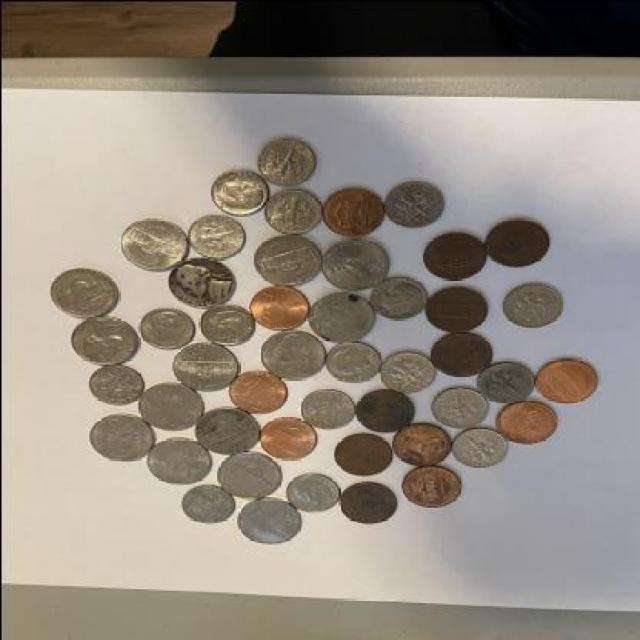Dime: (256, 135, 318, 188), (502, 282, 564, 331), (380, 180, 445, 226), (263, 186, 325, 234), (137, 304, 196, 350), (430, 386, 488, 432), (322, 340, 380, 386), (208, 170, 266, 216), (297, 384, 354, 430), (188, 214, 245, 260), (474, 360, 536, 402), (282, 471, 342, 514), (371, 276, 426, 322), (198, 303, 254, 346), (377, 350, 434, 392), (86, 362, 142, 404), (452, 429, 508, 466)
Nickel: (250, 230, 324, 288), (47, 263, 121, 319), (117, 217, 188, 271), (306, 289, 376, 343), (320, 237, 389, 291), (68, 312, 138, 365), (170, 340, 238, 392), (167, 256, 236, 306), (233, 496, 304, 544), (257, 331, 326, 380), (134, 382, 202, 431), (192, 403, 257, 454), (86, 411, 152, 460), (144, 438, 210, 484), (215, 452, 280, 498), (176, 482, 236, 528)
Penny: (484, 215, 550, 268), (534, 357, 602, 405), (318, 187, 384, 236), (420, 230, 486, 278), (423, 283, 488, 331), (248, 283, 309, 332), (495, 402, 560, 446), (352, 388, 417, 432), (430, 332, 492, 377), (338, 478, 398, 524), (334, 430, 392, 476), (392, 422, 450, 468), (402, 466, 464, 509), (226, 369, 285, 411), (260, 417, 317, 460)
